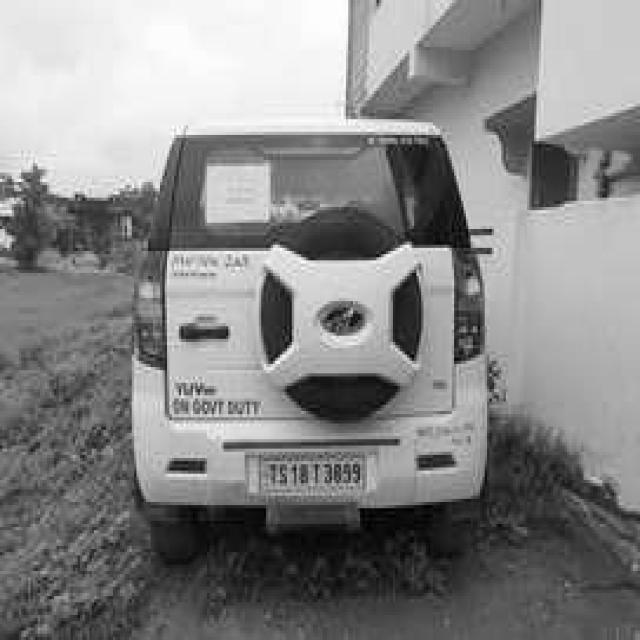license-plate: (259, 448, 374, 496)
